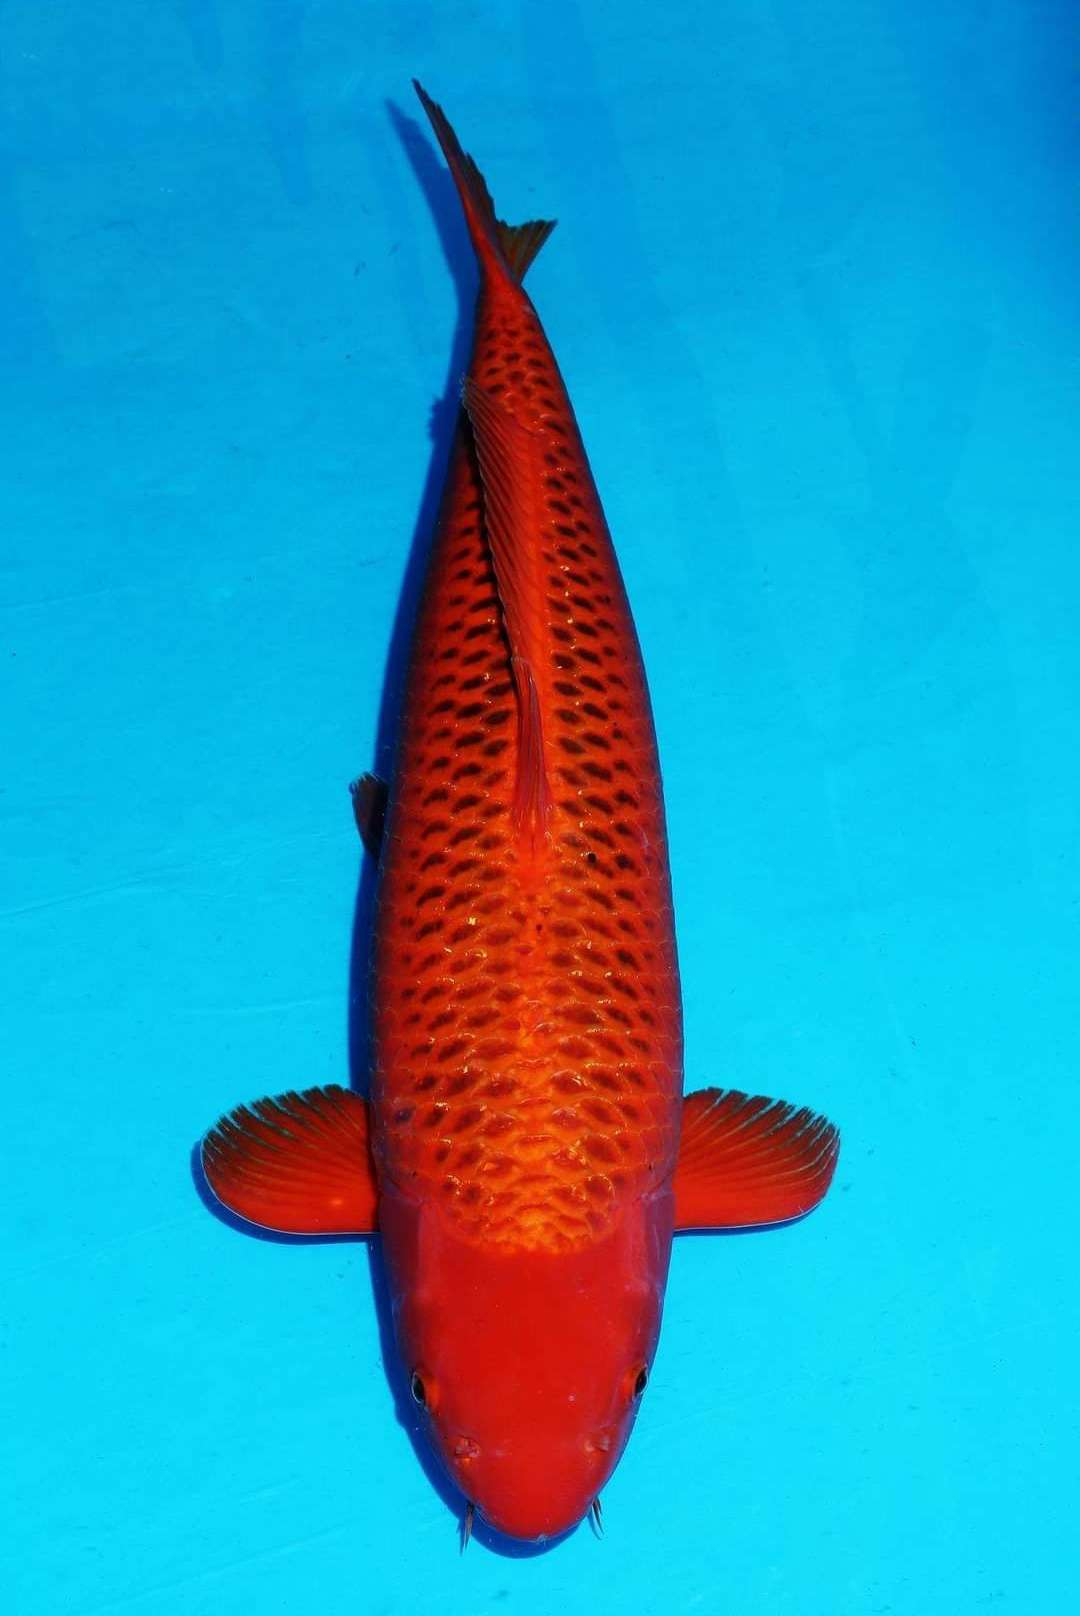red: (190, 74, 841, 1555)
